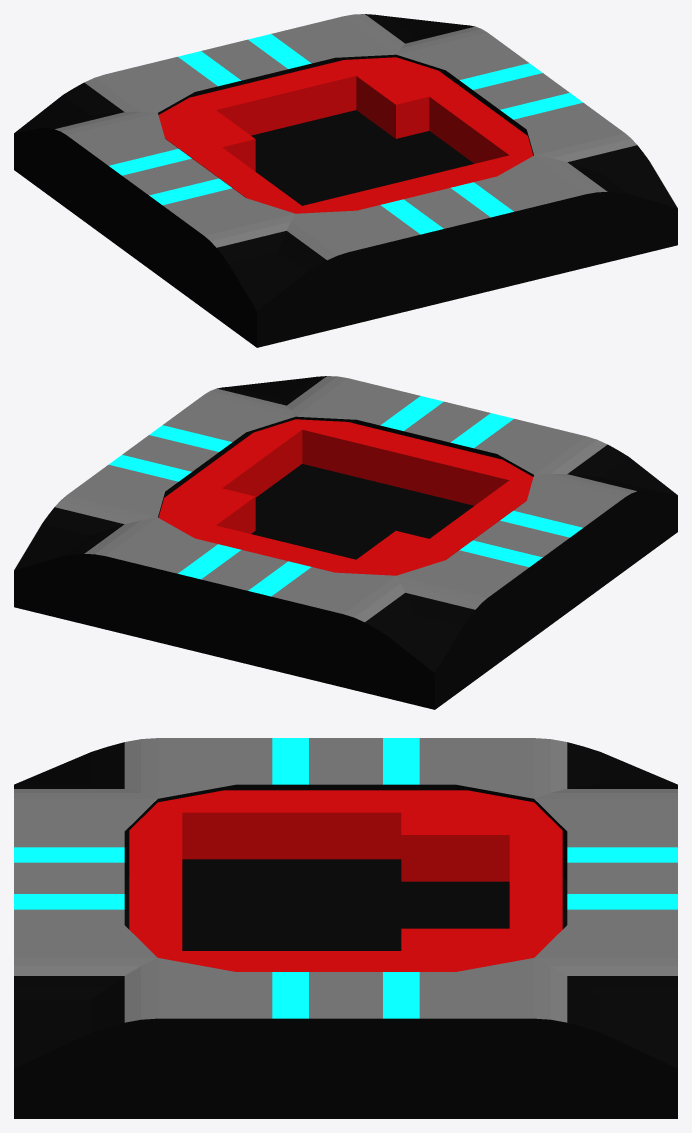
The model's file is enemySpawnNode.fbx.
The picture shows the model from 3 angles, top to bottom: view 1: azimuth 30°, elevation 25°; view 2: azimuth 150°, elevation 25°; view 3: azimuth 270°, elevation 25°; orthographic projection. The views are drawn at different scales.
Visible parts, largest first — view 1: Plane, Plane.001; view 2: Plane, Plane.001; view 3: Plane, Plane.001.
Boxes of the visible parts, x1,y1,x2,y2 form: Plane: (14, 14, 677, 347); Plane.001: (158, 57, 533, 213); Plane: (14, 376, 677, 709); Plane.001: (158, 419, 533, 575); Plane: (14, 738, 677, 1118); Plane.001: (129, 790, 562, 971).
Bounding box in the file's own units: 600 × 108 × 600.
